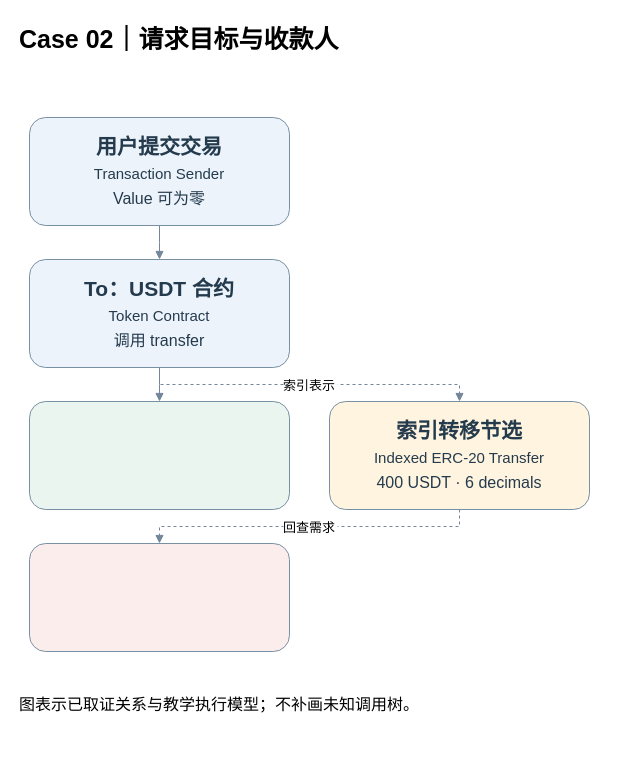
Some shapes in this 618 by 775 pixel diagram are drawn without their labels. The centre of each missing label's shape, as x and y in pixels:
"代币状态逻辑 Token State Logic 与 AVAX 费用分开" goes at [159,455].
"原始材料边界 Raw Evidence Gap 完整 Logs / Trace 未取得" goes at [159,597].
